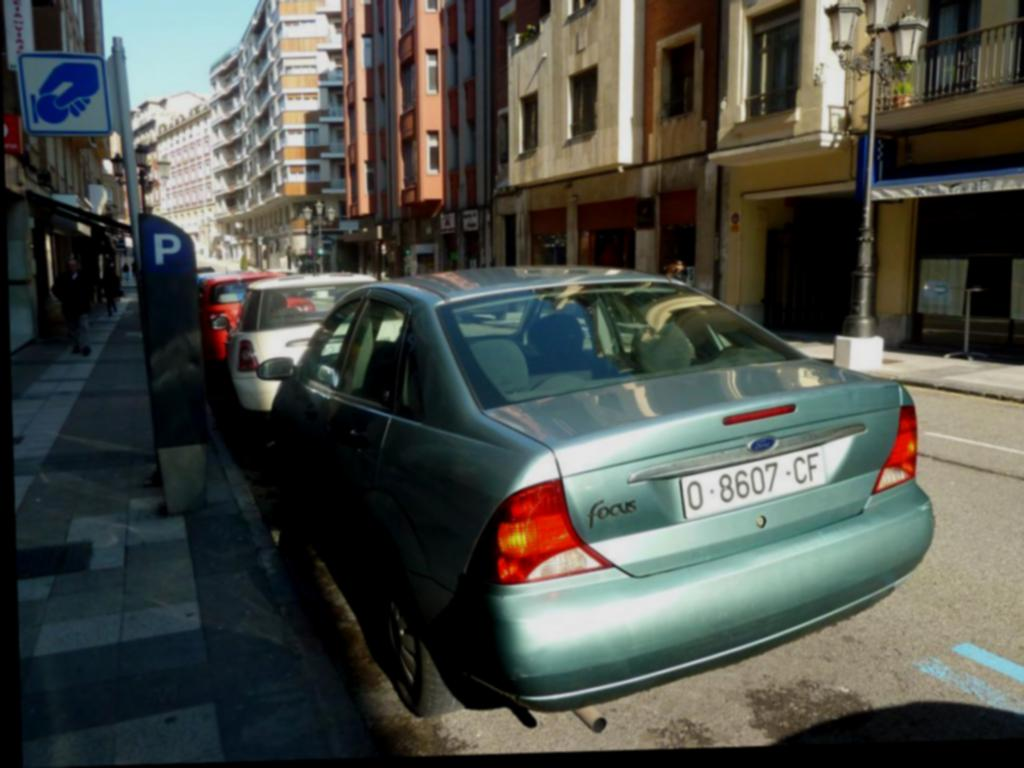License_Plate: (675, 448, 826, 516)
